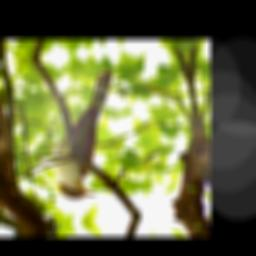Cuckoo: (38, 68, 132, 202)
